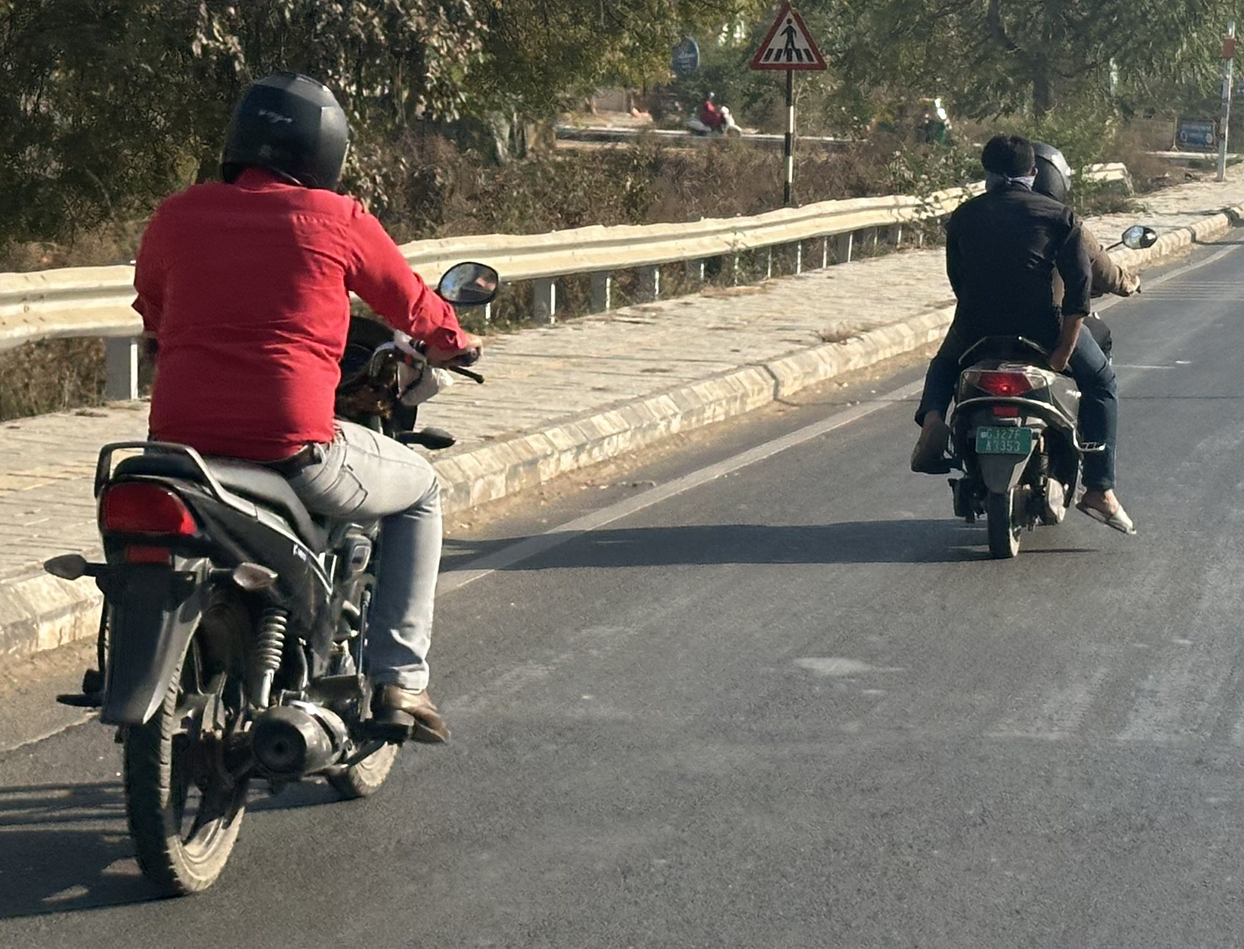BikeWithRider: (39, 64, 504, 909), (901, 130, 1161, 564)
Helmet: (216, 65, 357, 201), (1022, 133, 1079, 213)
NoHelmet: (975, 129, 1040, 200)
